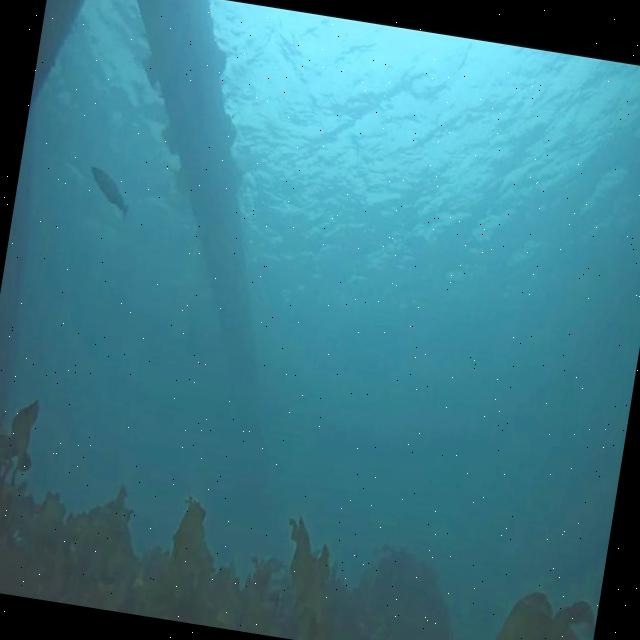fish: (85, 164, 136, 220)
